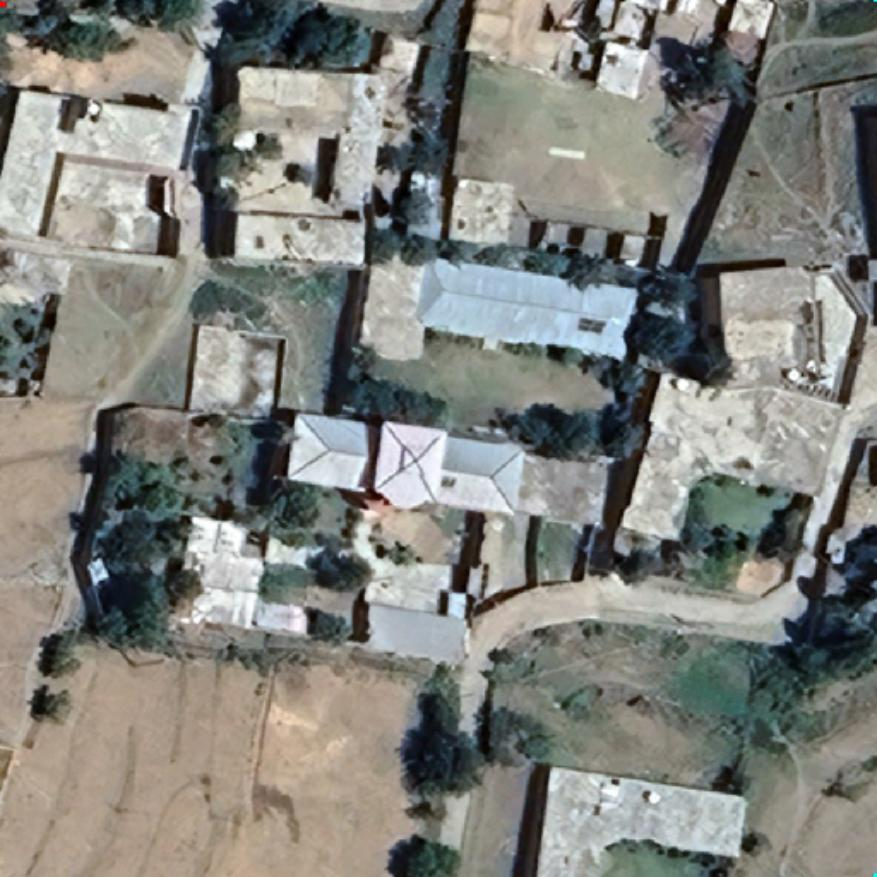Solarpanel: (574, 314, 610, 336)
